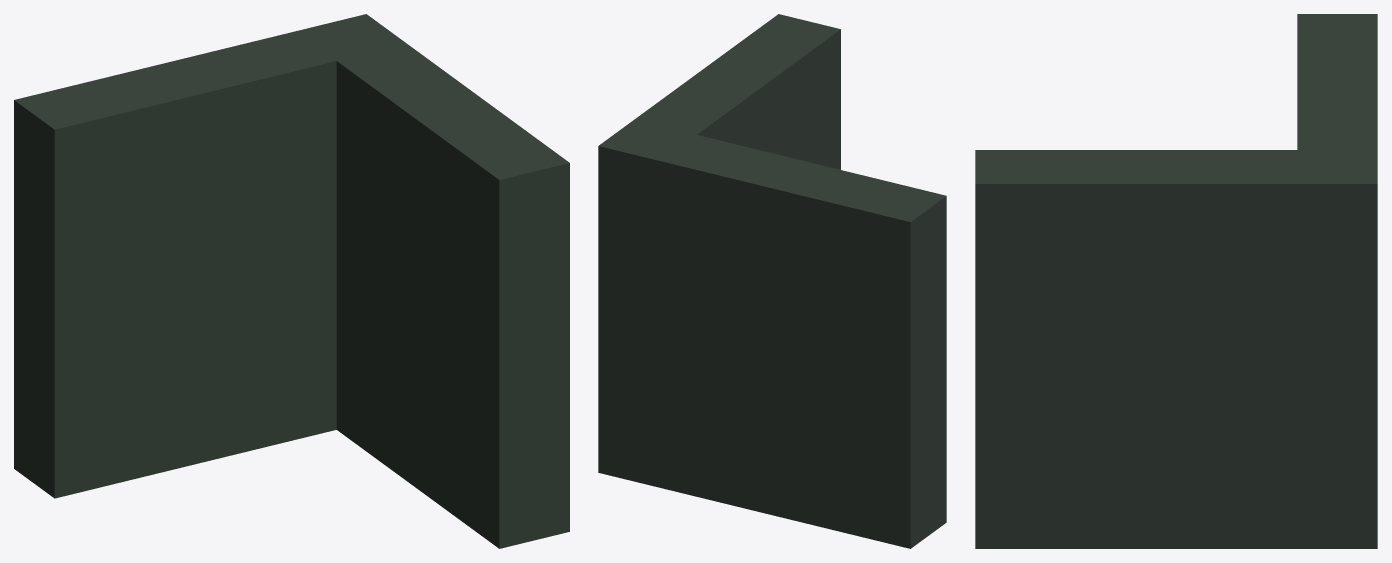
Rendered from SM_WallFlat_Corner90.fbx.
3 views of the same model, side by side, from view 1: azimuth 30°, elevation 25°; view 2: azimuth 150°, elevation 25°; view 3: azimuth 270°, elevation 25° (orthographic). The views are drawn at different scales.
Parts seen in each view (by area): view 1: SM_WallFlat_Corner90; view 2: SM_WallFlat_Corner90; view 3: SM_WallFlat_Corner90.
Part boxes in pixels (x1=…): SM_WallFlat_Corner90: x1=14, y1=14, x2=569, y2=548; SM_WallFlat_Corner90: x1=598, y1=14, x2=946, y2=548; SM_WallFlat_Corner90: x1=975, y1=14, x2=1377, y2=548.
Size of the model in its own units: 500 by 500 by 500.
Materials: 1 (1 with a texture image).
